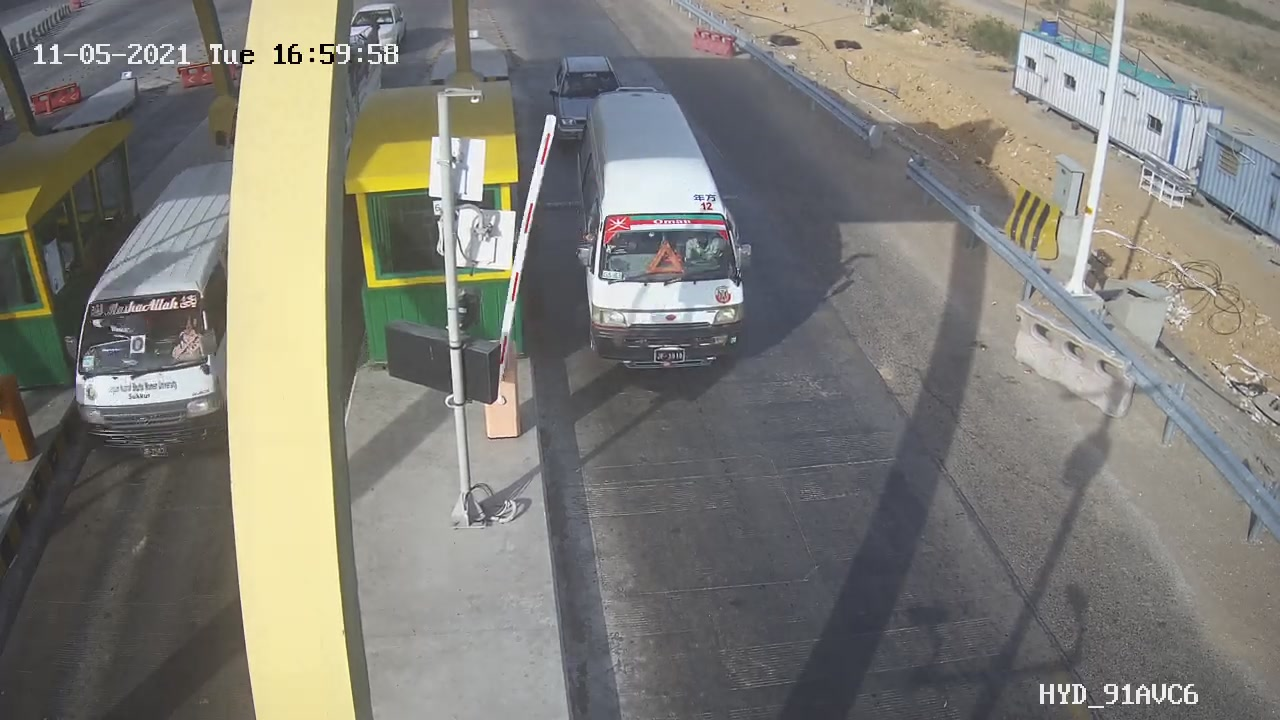F2: (560, 77, 773, 395)
